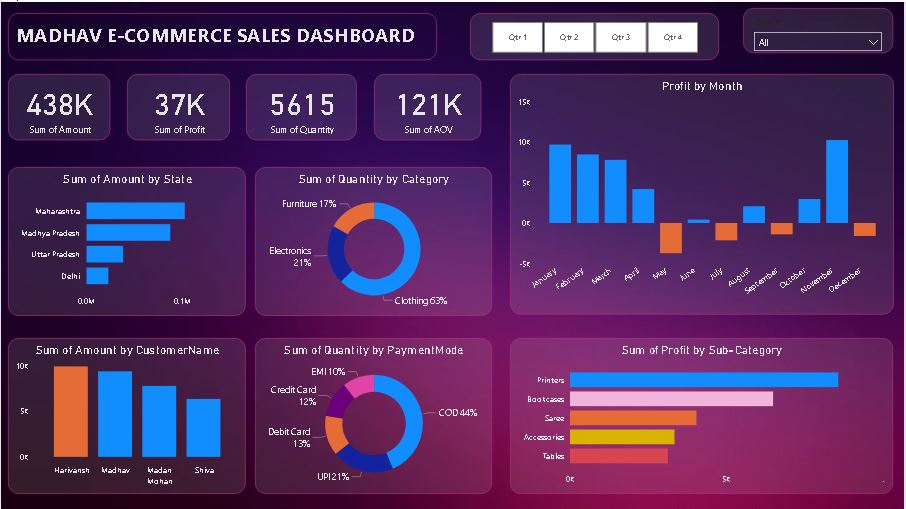

This screenshot's page, from the dashboard's own definition file:
{"tool":"powerbi","page":{"name":"Page 1","canvas":[1280,720],"ordinal":0},"visuals":[{"type":"textbox","box":[9.9,15.6,608,66.6],"z":0},{"type":"columnChart","title":"Profit by Month","fields":{"Category":["Orders.Order Date.Variation.Date Hierarchy.Month"],"Y":["Details.Profit"]},"box":[721.4,102.3,543.5,340.6],"z":1000},{"type":"barChart","fields":{"Category":["Details.Sub-Category"],"Y":["Details.Profit"]},"box":[721.4,476.2,542.8,221.1],"z":2000},{"type":"donutChart","fields":{"Category":["Details.Category"],"Y":["Details.Quantity"]},"box":[360.7,233.2,335.5,211.4],"z":3000},{"type":"donutChart","fields":{"Y":["Details.Quantity"],"Category":["Details.PaymentMode"]},"box":[360.7,476.4,335.5,221.4],"z":4000},{"type":"card","fields":{"Values":["Details.Amount"]},"box":[9.9,102,144.6,93.5],"z":4001},{"type":"card","fields":{"Values":["Details.Profit"]},"box":[178.6,102,146,93.5],"z":4002},{"type":"card","fields":{"Values":["Details.Quantity"]},"box":[347.2,102,157.3,93.5],"z":4003},{"type":"card","fields":{"Values":["Details.AOV"]},"box":[528.7,102,151.7,93.5],"z":4004},{"type":"barChart","fields":{"Category":["Orders.State"],"Y":["Details.Amount"]},"box":[10.1,233.2,337.2,211.4],"z":4005},{"type":"columnChart","fields":{"Category":["Orders.CustomerName"],"Y":["Details.Amount"]},"box":[10.1,476.4,337.2,221.4],"z":4006},{"type":"slicer","fields":{"Values":["Orders.Order Date.Variation.Date Hierarchy.Quarter"]},"box":[664.7,15.6,352.9,66.6],"z":4007},{"type":"slicer","fields":{"Values":["Orders.State"]},"box":[1051.8,8.4,213.1,63.7],"z":4008}]}

Visuals, with their boxes in screenshot pixels (x1, y1, x2, y2), scaled from the page's 1280x720 canvas onto the 906x509 screenshot:
textbox: bbox(7, 11, 437, 58)
"Profit by Month" columnChart: bbox(511, 72, 895, 313)
barChart - Details.Sub-Category x Details.Profit: bbox(511, 337, 895, 493)
donutChart - Details.Category x Details.Quantity: bbox(255, 165, 493, 314)
donutChart - Details.Quantity x Details.PaymentMode: bbox(255, 337, 493, 493)
card - Details.Amount: bbox(7, 72, 109, 138)
card - Details.Profit: bbox(126, 72, 230, 138)
card - Details.Quantity: bbox(246, 72, 357, 138)
card - Details.AOV: bbox(374, 72, 482, 138)
barChart - Orders.State x Details.Amount: bbox(7, 165, 246, 314)
columnChart - Orders.CustomerName x Details.Amount: bbox(7, 337, 246, 493)
slicer - Orders.Order Date.Variation.Date Hierarchy.Quarter: bbox(470, 11, 720, 58)
slicer - Orders.State: bbox(744, 6, 895, 51)
